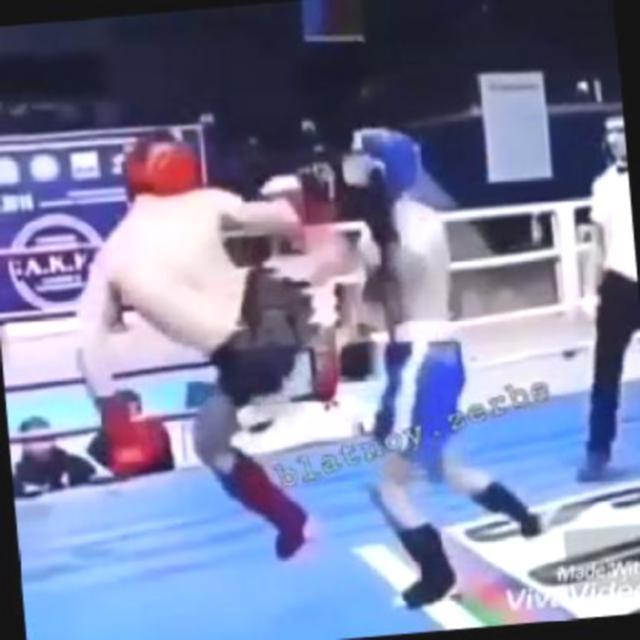fight: (58, 98, 542, 630)
